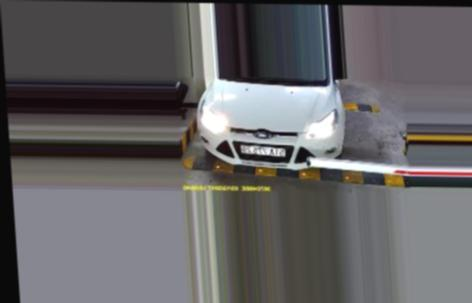License_Plate: (238, 142, 289, 156)
